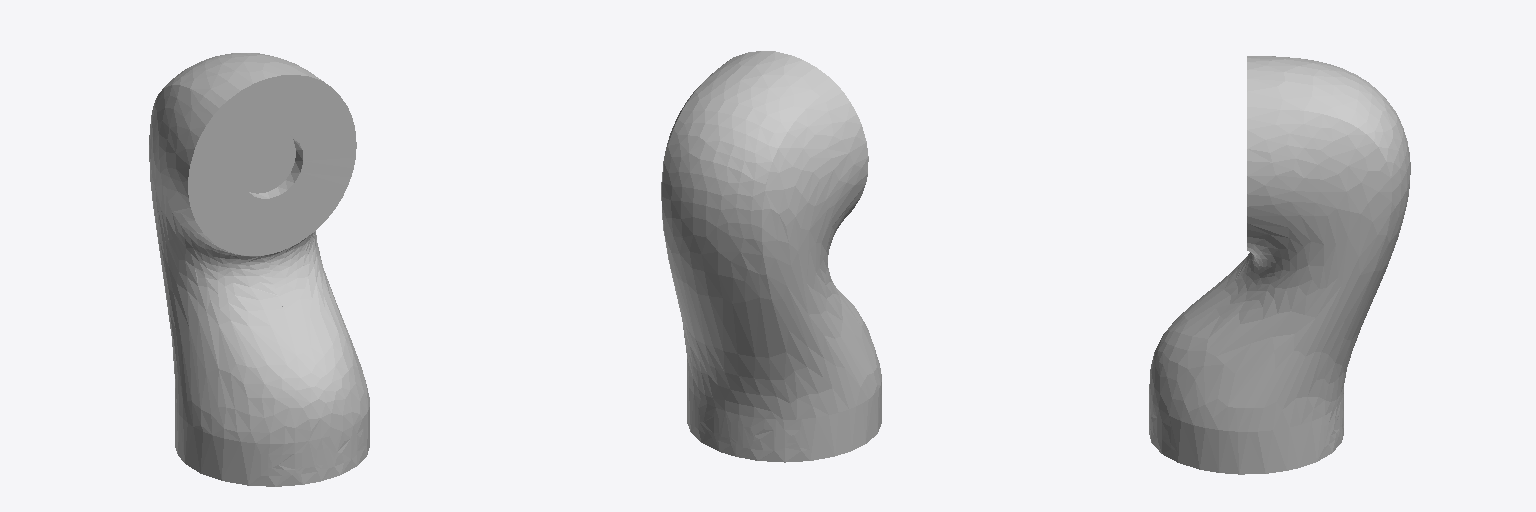
File: link_3_fixed.obj
3 views of the same model, side by side, from view 1: azimuth 30°, elevation 25°; view 2: azimuth 150°, elevation 25°; view 3: azimuth 270°, elevation 25° (orthographic).
Visible parts, largest first — view 1: Link_3_Link_3.001; view 2: Link_3_Link_3.001; view 3: Link_3_Link_3.001.
Boxes of the visible parts, box(x1,y1,x2,y2) form: Link_3_Link_3.001: box(149, 53, 369, 486); Link_3_Link_3.001: box(661, 51, 881, 462); Link_3_Link_3.001: box(1149, 56, 1410, 474).
Bounding box in the file's own units: 0.1361 × 0.2933 × 0.1826.